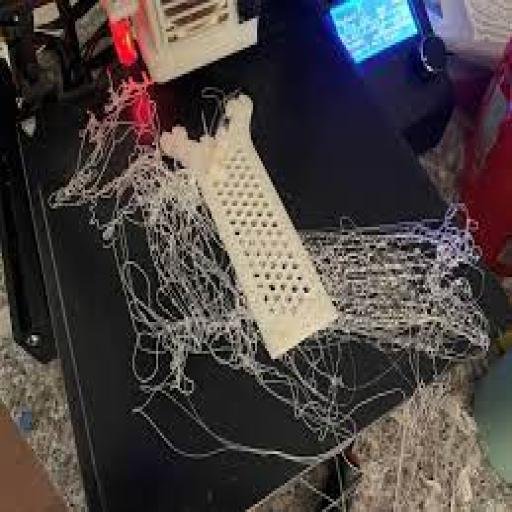spaghetti: (51, 99, 241, 422), (302, 190, 482, 420)
